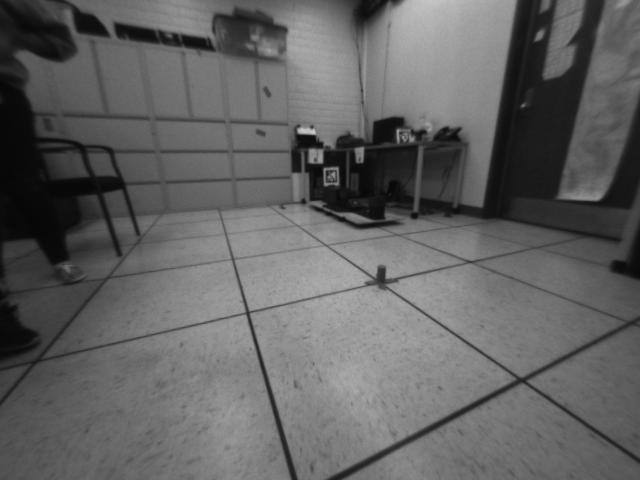X: (363, 263, 400, 290)
